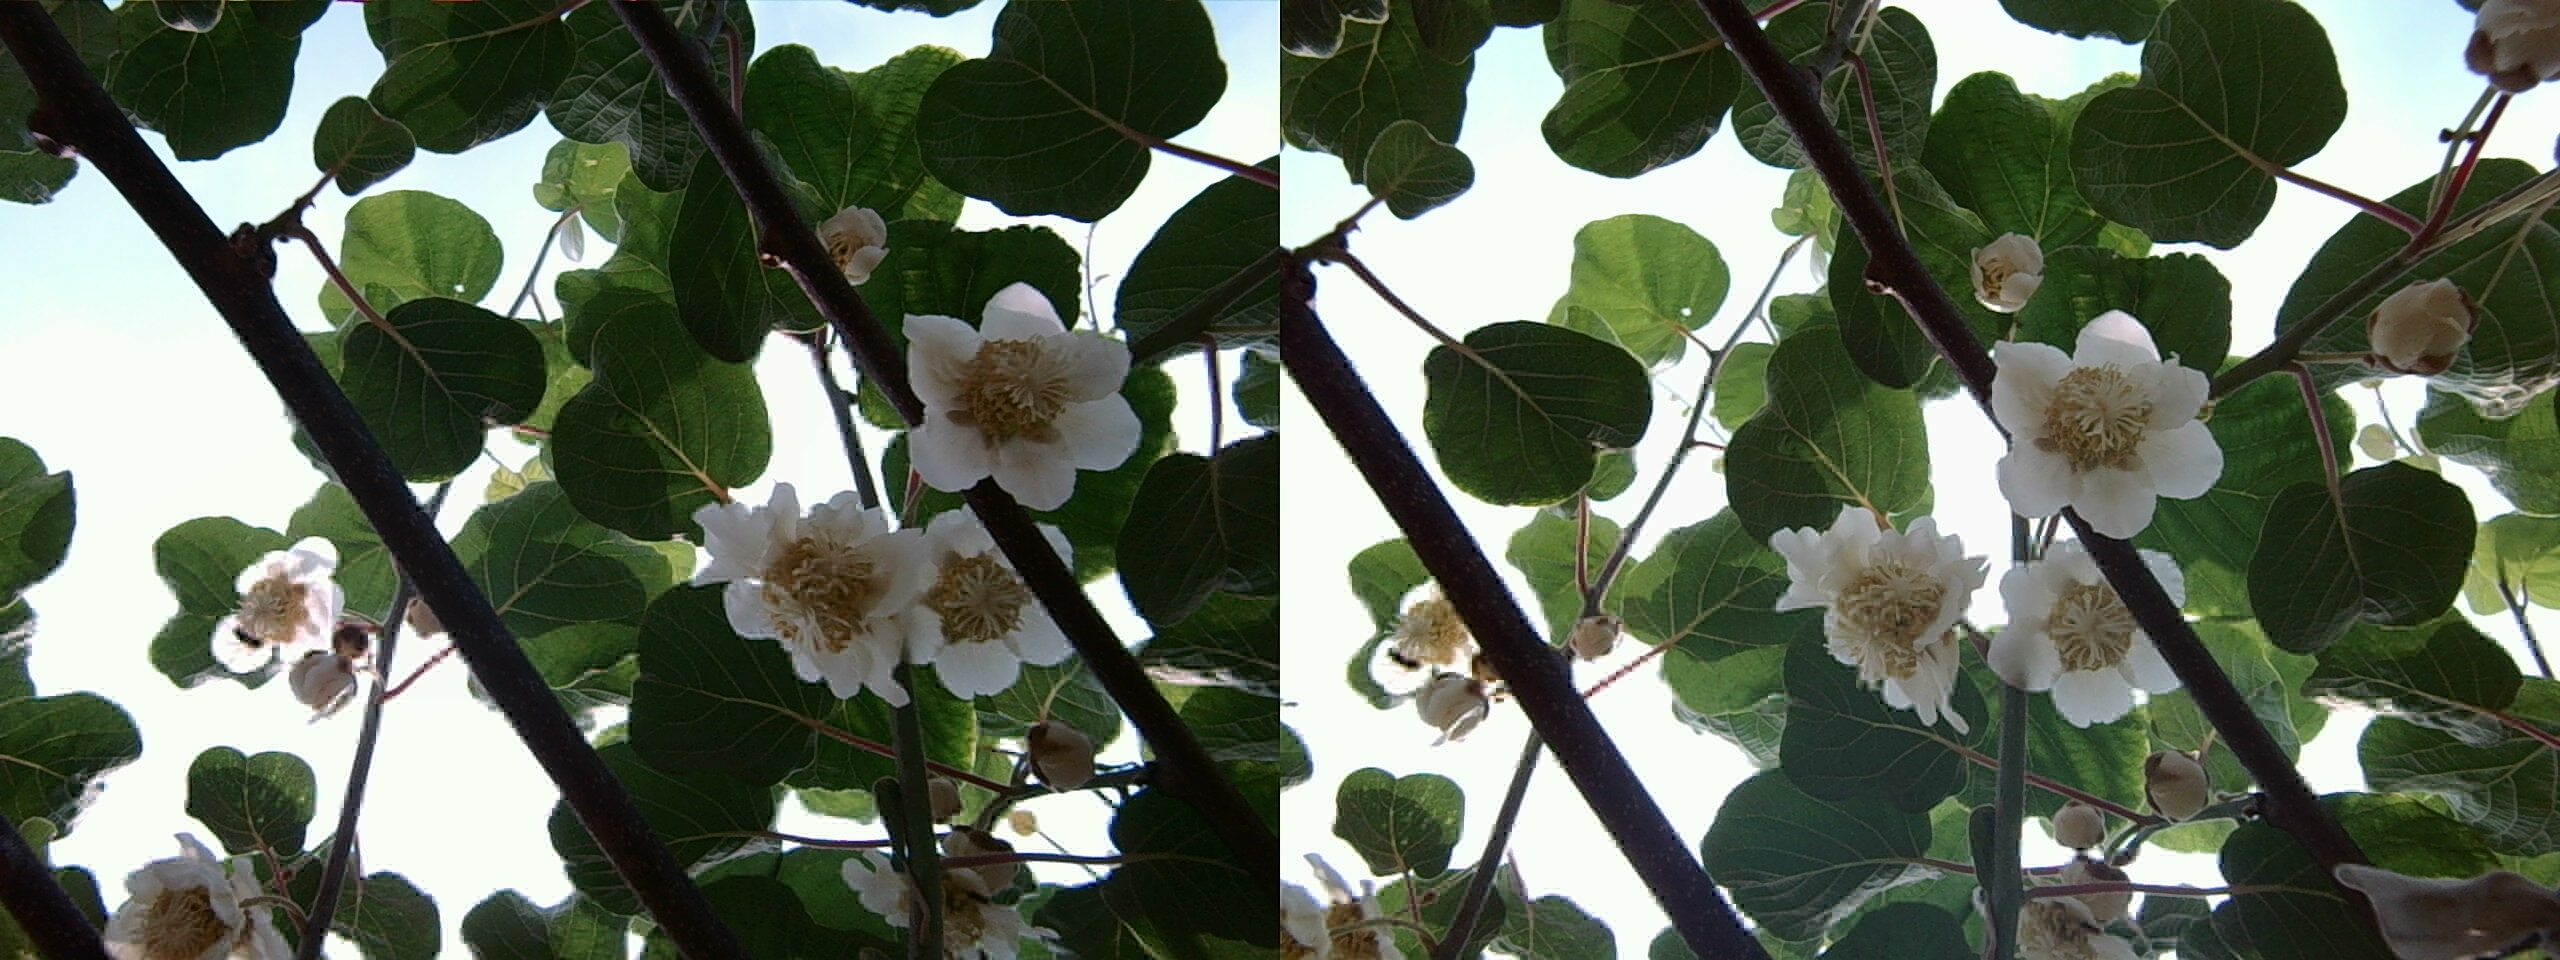flower: (1980, 310, 2219, 536), (898, 284, 1135, 509), (1768, 496, 1990, 717), (704, 485, 922, 692), (882, 513, 1061, 694), (1980, 542, 2170, 712), (202, 532, 348, 674), (1358, 576, 1487, 731)
